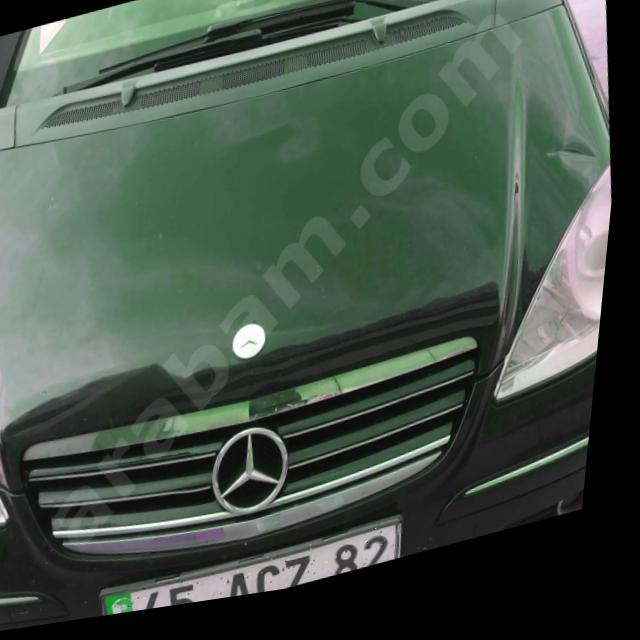license_plate: (113, 530, 416, 621)
